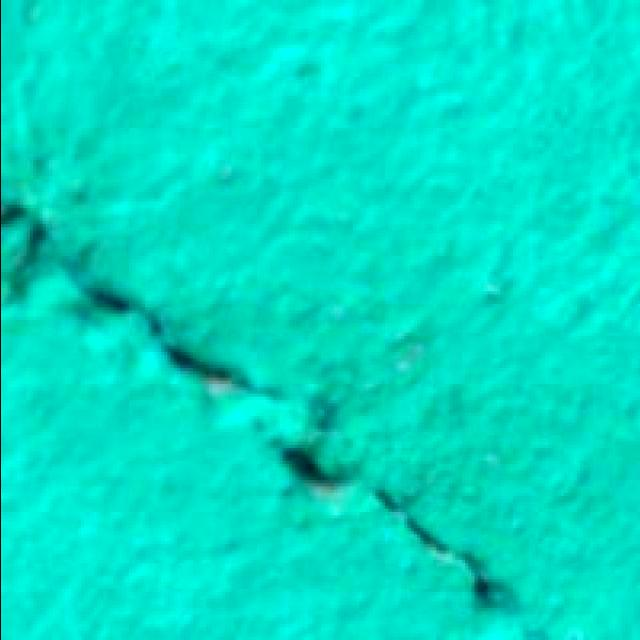SurfaceCrack: (0, 162, 524, 640)
